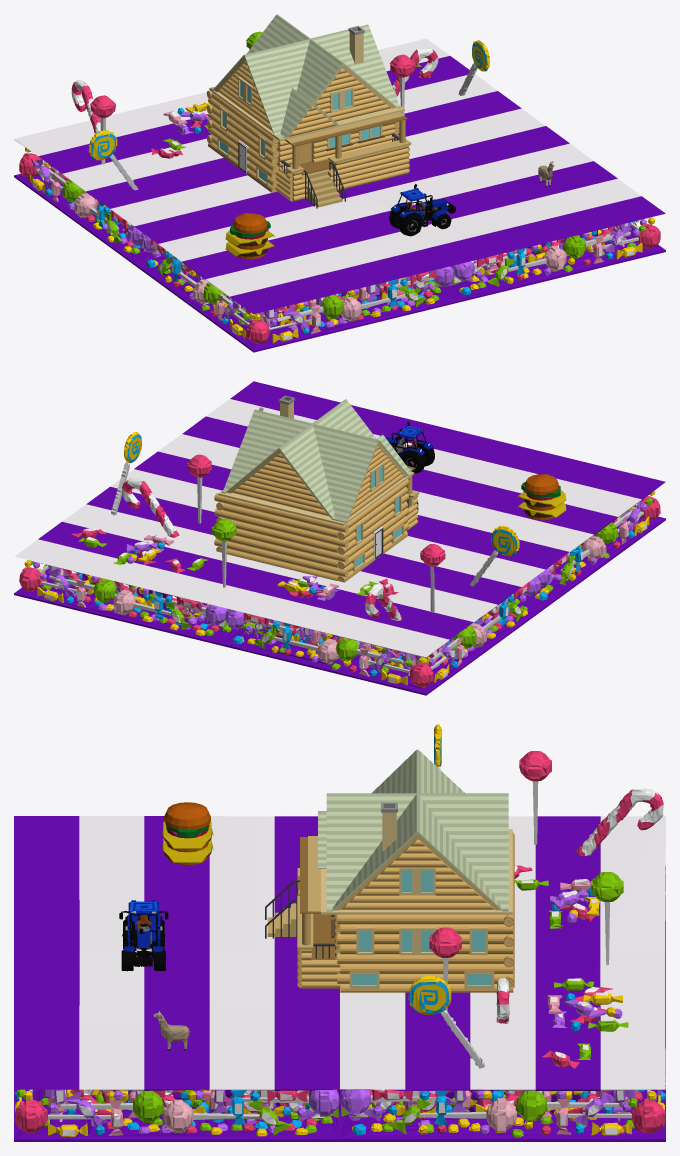
The picture shows the model from 3 angles, top to bottom: view 1: azimuth 30°, elevation 25°; view 2: azimuth 150°, elevation 25°; view 3: azimuth 270°, elevation 25°; orthographic projection. The views are drawn at different scales.
Visible parts, largest first — view 1: TERRAIN_CANDY, Cube.1516, VEHICLES_TRACTOR, OBJRANDOM_HAMBURGER; view 2: TERRAIN_CANDY, Cube.1516, OBJRANDOM_HAMBURGER, VEHICLES_TRACTOR; view 3: TERRAIN_CANDY, Cube.1516, VEHICLES_TRACTOR, OBJRANDOM_HAMBURGER, ANIMAL_LLAMA.
Boxes of the visible parts, box(x1,y1,x2,y2) form: TERRAIN_CANDY: box(14, 31, 665, 352); Cube.1516: box(206, 14, 411, 208); VEHICLES_TRACTOR: box(389, 184, 455, 236); OBJRANDOM_HAMBURGER: box(225, 213, 274, 259); TERRAIN_CANDY: box(14, 381, 665, 695); Cube.1516: box(214, 395, 419, 582); OBJRANDOM_HAMBURGER: box(517, 474, 566, 520); VEHICLES_TRACTOR: box(385, 421, 434, 473); TERRAIN_CANDY: box(14, 724, 665, 1141); Cube.1516: box(265, 749, 514, 992); VEHICLES_TRACTOR: box(119, 900, 168, 971); OBJRANDOM_HAMBURGER: box(162, 802, 213, 864); ANIMAL_LLAMA: box(153, 1011, 190, 1050).
Bounding box in the file's own units: 4059 × 1685 × 4000.
Materials: 31 (3 with a texture image).
